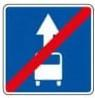road_sign: (2, 2, 95, 96)
